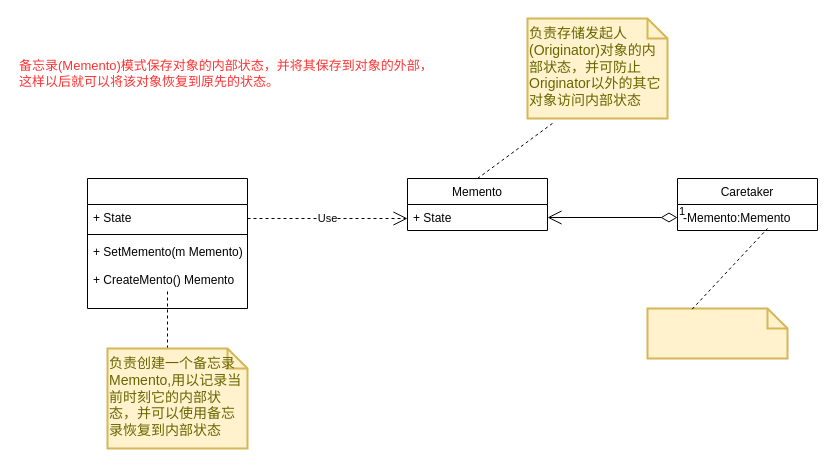
This 835x466 diagram has some shape labels left out. Each missing label, with the box of its shape:
Originator: (86, 178, 248, 308)
负责保存创建的好的备忘录: (646, 307, 788, 359)
